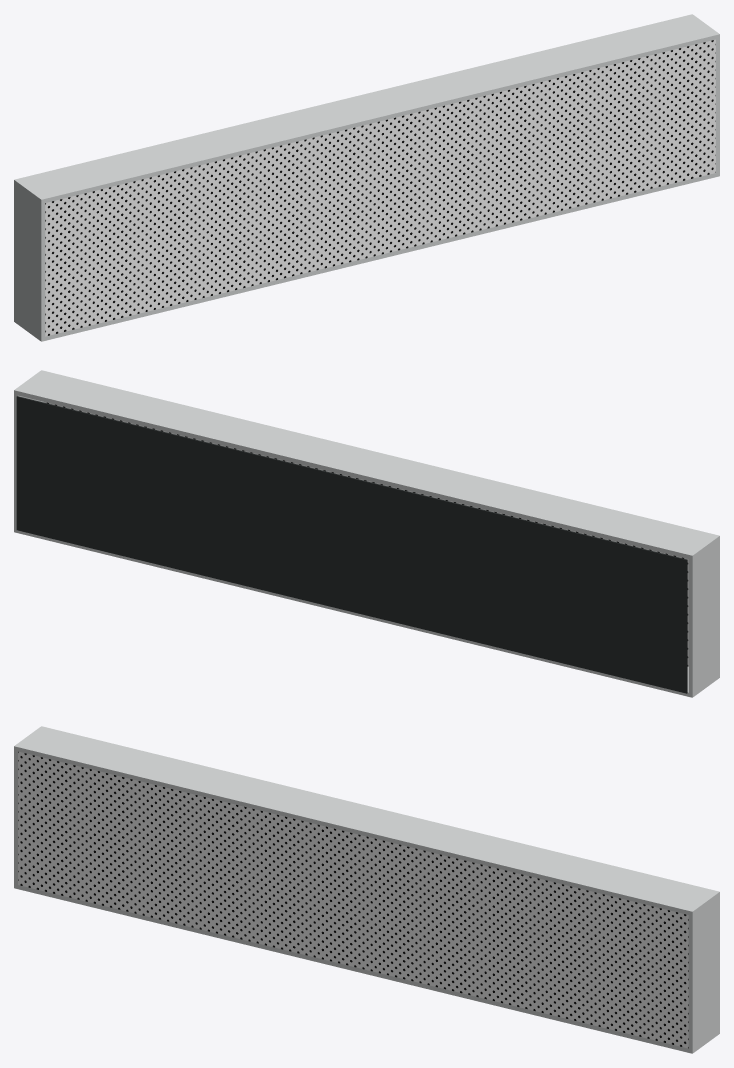
Rendered from ecoclima-egff-500x100.glb.
3 views of the same model, one above another, from view 1: azimuth 30°, elevation 25°; view 2: azimuth 150°, elevation 25°; view 3: azimuth 330°, elevation 25° (orthographic).
Parts seen in each view (by area): view 1: Profile_lamiera_forata.001, Profile_ritorno.120, Profile_ritorno.122, Profile_ritorno.121, Profile_ritorno.123; view 2: Interno.032, Profile_ritorno.120, Profile_ritorno.122, Profile_ritorno.121, Profile_lamiera_forata.001; view 3: Profile_lamiera_forata.001, Profile_ritorno.120, Profile_ritorno.123, Profile_ritorno.121, Profile_ritorno.122.
Part boxes in pixels (x1=…): Profile_lamiera_forata.001: x1=45, y1=39, x2=715, y2=336; Profile_ritorno.120: x1=14, y1=14, x2=719, y2=203; Profile_ritorno.122: x1=14, y1=184, x2=45, y2=337; Profile_ritorno.121: x1=14, y1=172, x2=719, y2=341; Profile_ritorno.123: x1=716, y1=38, x2=719, y2=172; Interno.032: x1=16, y1=396, x2=687, y2=693; Profile_ritorno.120: x1=14, y1=370, x2=719, y2=559; Profile_ritorno.122: x1=688, y1=540, x2=719, y2=693; Profile_ritorno.121: x1=14, y1=528, x2=719, y2=697; Profile_lamiera_forata.001: x1=44, y1=402, x2=688, y2=666; Profile_lamiera_forata.001: x1=18, y1=751, x2=688, y2=1048; Profile_ritorno.120: x1=14, y1=726, x2=719, y2=915; Profile_ritorno.123: x1=688, y1=896, x2=719, y2=1049; Profile_ritorno.121: x1=14, y1=884, x2=719, y2=1053; Profile_ritorno.122: x1=14, y1=750, x2=17, y2=884.
Bounding box in the file's own units: 0.5 × 0.1 × 0.037.
3 materials, 1 textured.
